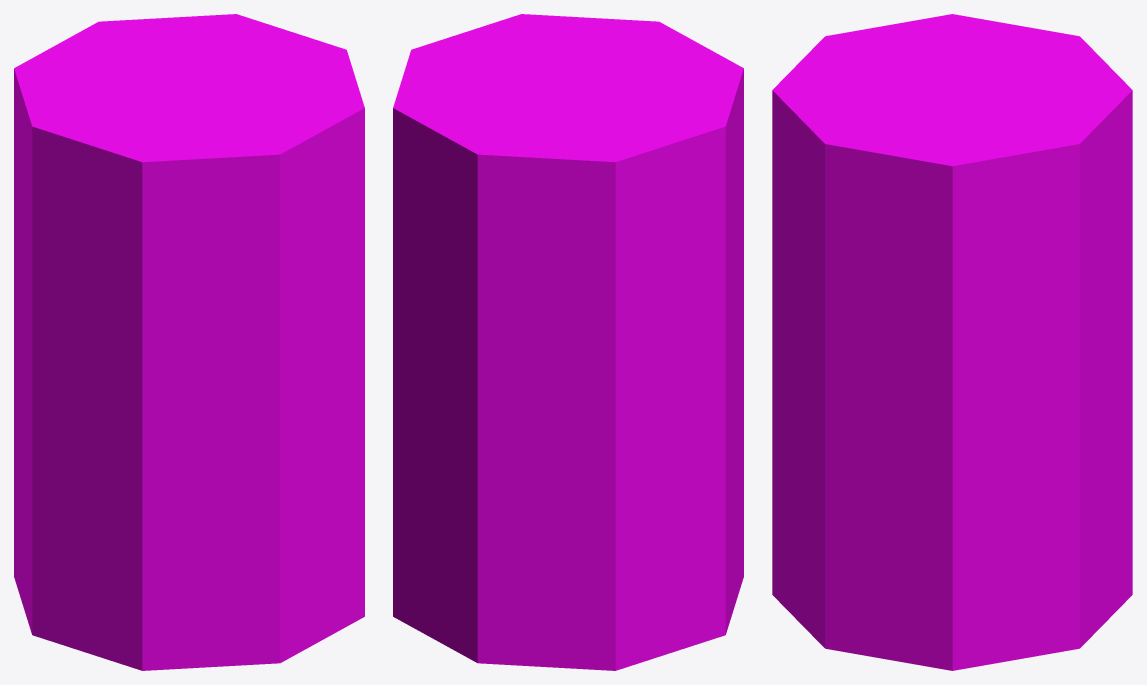
The model's file is creosote_med.dae.
3 renders of one model, left to right at view 1: azimuth 30°, elevation 25°; view 2: azimuth 150°, elevation 25°; view 3: azimuth 270°, elevation 25°, orthographic.
Parts seen in each view (by area): view 1: Colmesh_bush-1; view 2: Colmesh_bush-1; view 3: Colmesh_bush-1.
Part boxes in pixels (left/top/right/bottom): Colmesh_bush-1: left=14, top=14, right=364, bottom=670; Colmesh_bush-1: left=393, top=14, right=743, bottom=670; Colmesh_bush-1: left=772, top=14, right=1132, bottom=670.
Size of the model in its own units: 0.77 by 0.77 by 1.2.
